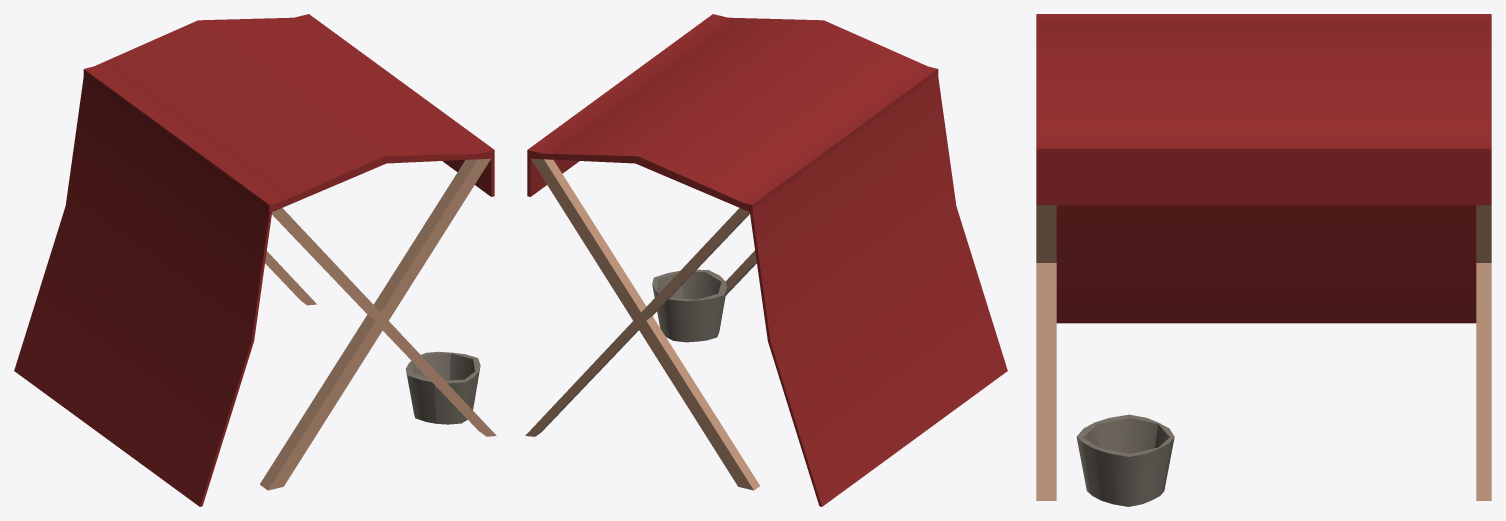
The model's file is marketstand_roof_variation_1.fbx.
3 renders of one model, left to right at view 1: azimuth 30°, elevation 25°; view 2: azimuth 150°, elevation 25°; view 3: azimuth 270°, elevation 25°, orthographic. The views are drawn at different scales.
Visible parts, largest first — view 1: pCube3, pCube4; view 2: pCube3, pCube4; view 3: pCube3, pCube4.
Boxes of the visible parts, x1=… form: pCube3: x1=14, y1=14, x2=496, y2=506; pCube4: x1=405, y1=351, x2=480, y2=424; pCube3: x1=525, y1=14, x2=1007, y2=506; pCube4: x1=652, y1=269, x2=726, y2=342; pCube3: x1=1036, y1=14, x2=1491, y2=500; pCube4: x1=1076, y1=414, x2=1174, y2=506.
Size of the model in its own units: 15.73 by 14.67 by 16.01.
